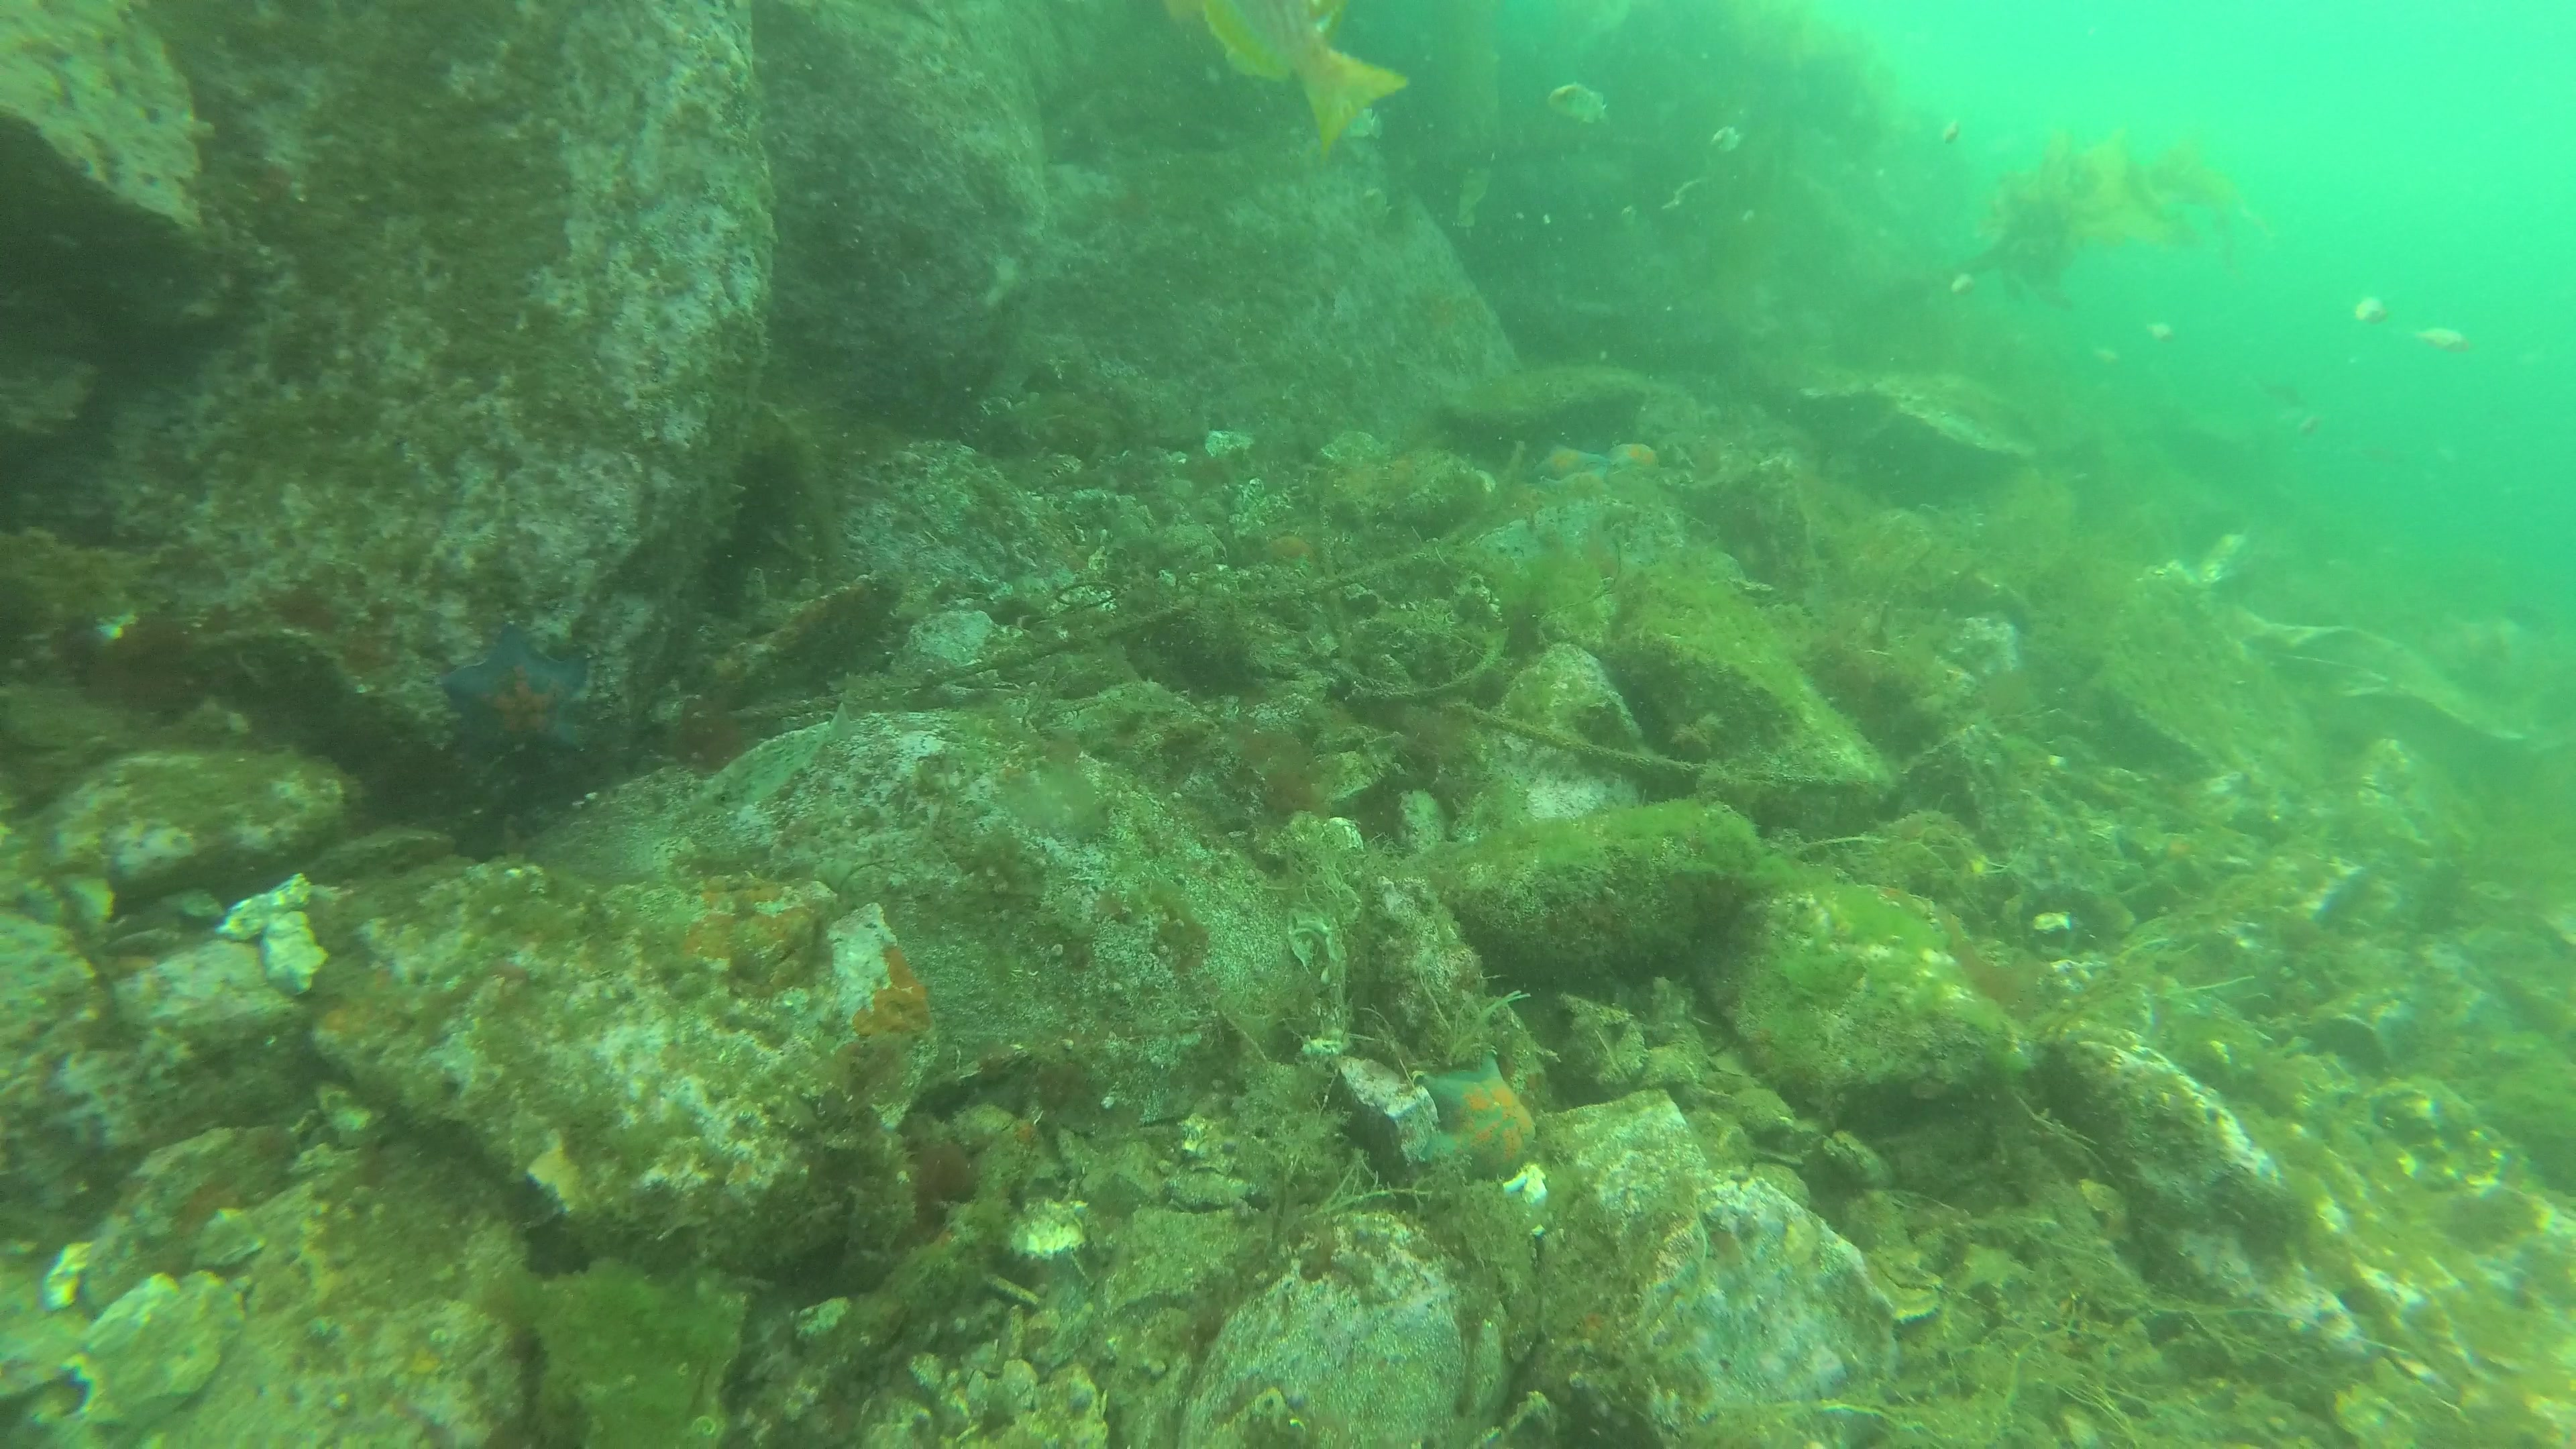starfish: (444, 630, 591, 757), (1414, 1051, 1537, 1177), (1532, 442, 1614, 481), (1548, 469, 1614, 494), (1610, 442, 1660, 471)
